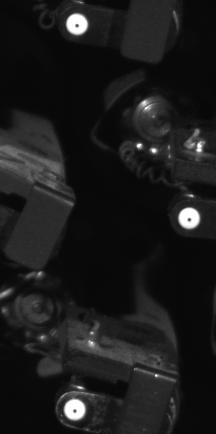fiber: (173, 202, 206, 234), (59, 395, 91, 426), (62, 9, 94, 38)
